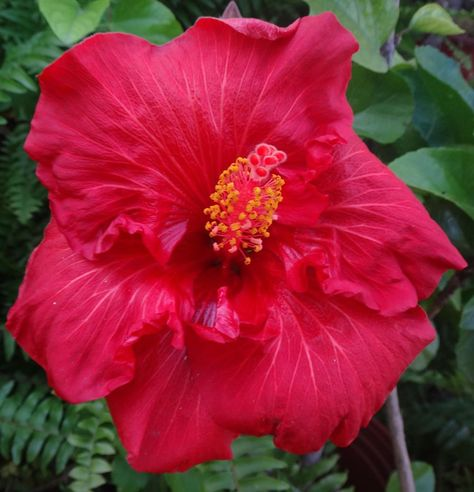Hibiscus: (18, 23, 450, 468)
